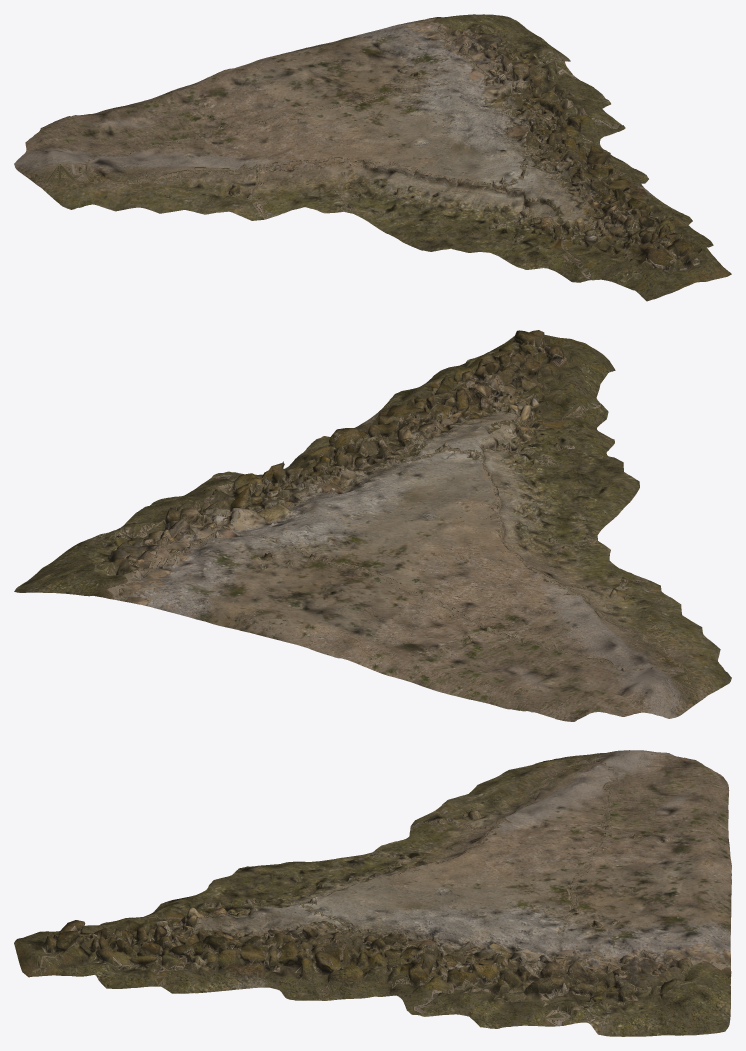
File: coast_rocks_02.gltf
3 views of the same model, one above another, from view 1: azimuth 30°, elevation 25°; view 2: azimuth 150°, elevation 25°; view 3: azimuth 270°, elevation 25° (orthographic). The views are drawn at different scales.
Parts seen in each view (by area): view 1: coast_rocks_02; view 2: coast_rocks_02; view 3: coast_rocks_02.
Boxes of the visible parts, <box> form: coast_rocks_02: <box>14,14,731,301</box>; coast_rocks_02: <box>14,330,731,721</box>; coast_rocks_02: <box>14,750,731,1036</box>.
Size of the model in its own units: 45.96 by 3.14 by 49.46.
1 material, 1 textured.
